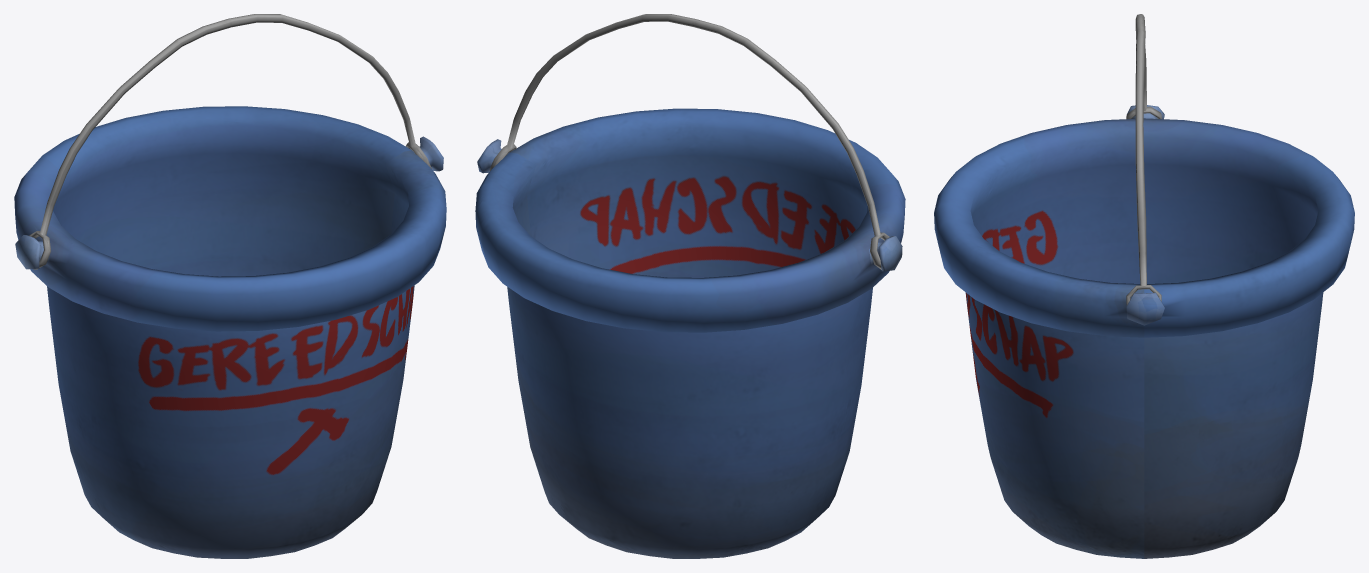
Rendered from bucket.fbx.
3 views of the same model, side by side, from view 1: azimuth 30°, elevation 25°; view 2: azimuth 150°, elevation 25°; view 3: azimuth 270°, elevation 25° (orthographic). The views are drawn at different scales.
Visible parts, largest first — view 1: Cylinder, Cylinder.001; view 2: Cylinder, Cylinder.001; view 3: Cylinder, Cylinder.001.
Part boxes in pixels (left/top/right/bottom): Cylinder: left=14, top=106, right=446, bottom=558; Cylinder.001: left=29, top=14, right=431, bottom=269; Cylinder: left=475, top=108, right=905, bottom=558; Cylinder.001: left=489, top=14, right=889, bottom=269; Cylinder: left=934, top=105, right=1354, bottom=558; Cylinder.001: left=1126, top=14, right=1161, bottom=305.
Bounding box in the file's own units: 242 × 275 × 221.
